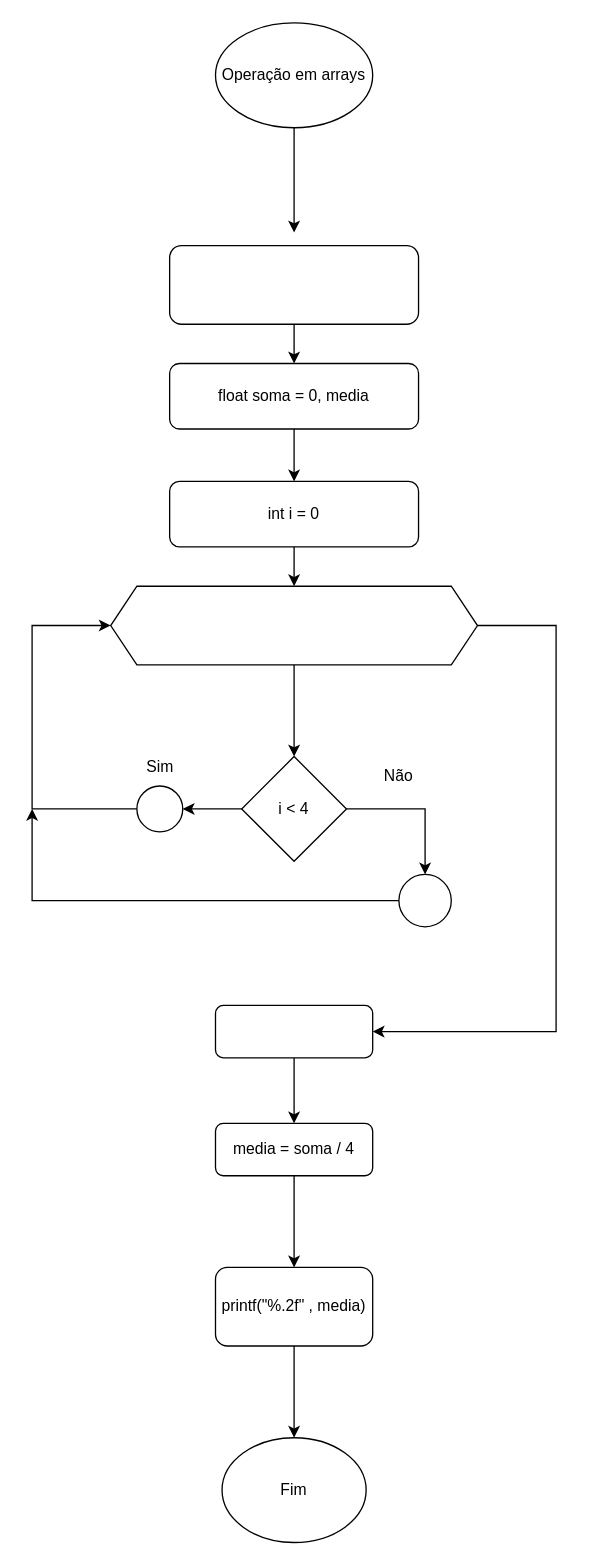
This 590x1565 diagram has some shape labels left out. The centre of each missing label's shape, as x and y in pixels:
"float notas[4] = {7.5, 8.0, 6.5, 9.0}" goes at pixel 293 284.
"for(i = 0; i < 4; i++)" goes at pixel 293 625.
"soma += notas[i]" goes at pixel 293 1031.
